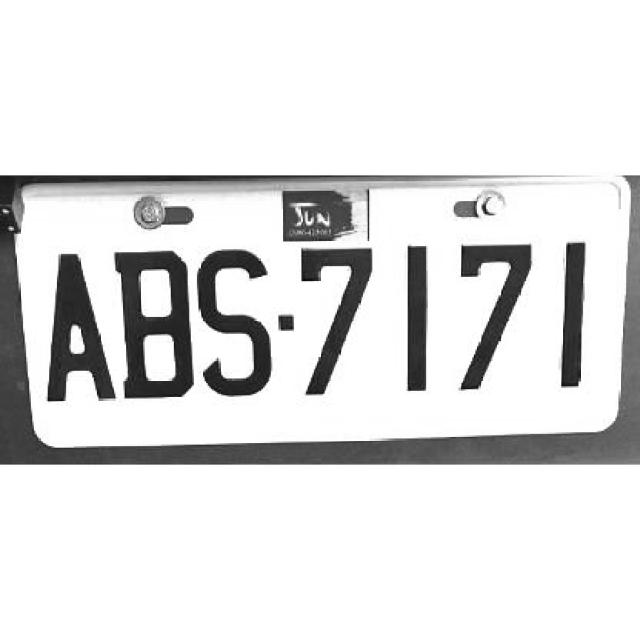-: (277, 311, 297, 334)
1: (556, 223, 590, 397), (400, 234, 431, 401)
7: (297, 238, 377, 402), (452, 240, 537, 392)
A: (41, 248, 118, 401)
B: (109, 242, 197, 403)
S: (194, 240, 272, 406)
